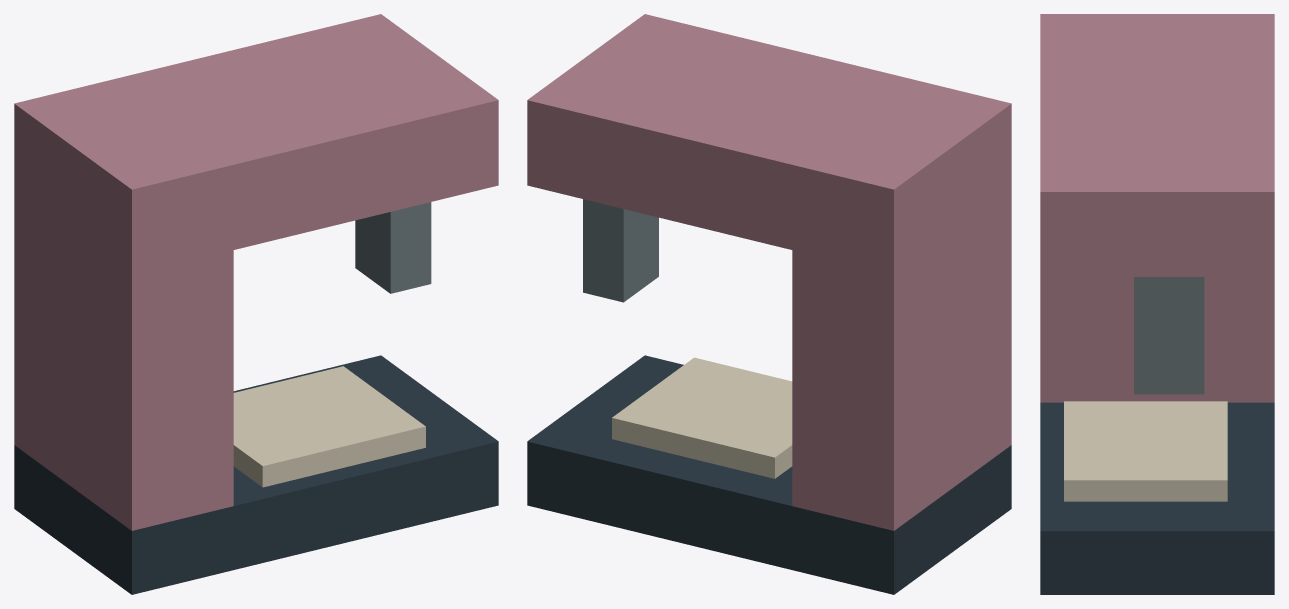
File: fashion-12.glb
3 views of the same model, side by side, from view 1: azimuth 30°, elevation 25°; view 2: azimuth 150°, elevation 25°; view 3: azimuth 270°, elevation 25° (orthographic).
Visible parts, largest first — view 1: Steam iron; view 2: Steam iron; view 3: Steam iron.
Boxes of the visible parts, bbox=[...] form: Steam iron: bbox=[14, 14, 498, 594]; Steam iron: bbox=[527, 14, 1011, 594]; Steam iron: bbox=[1040, 14, 1274, 594].
Size of the model in its own units: 1.44 by 1.52 by 0.8.
